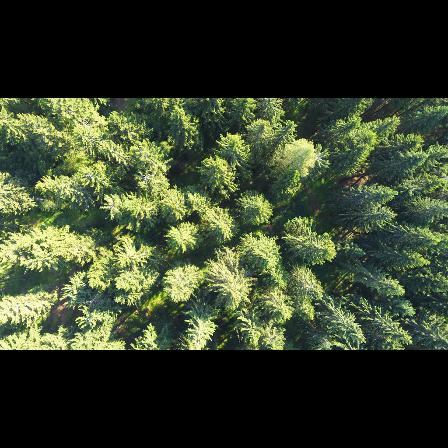Sick: (309, 143, 332, 170)
